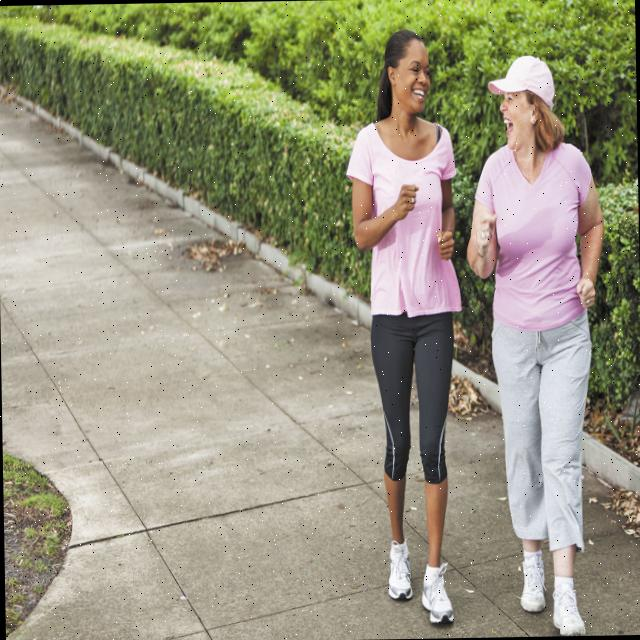Person: (463, 52, 611, 637), (345, 29, 468, 626)
